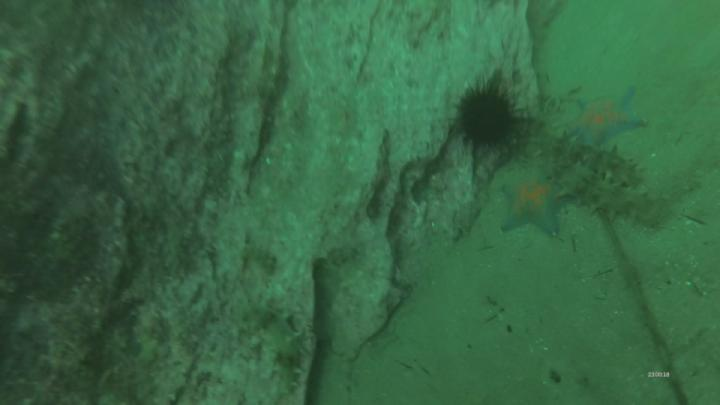echinus: (458, 90, 514, 146)
holothurian: (563, 166, 667, 230), (236, 306, 305, 399), (561, 134, 644, 189)
starfish: (499, 168, 570, 235), (572, 87, 647, 145)
